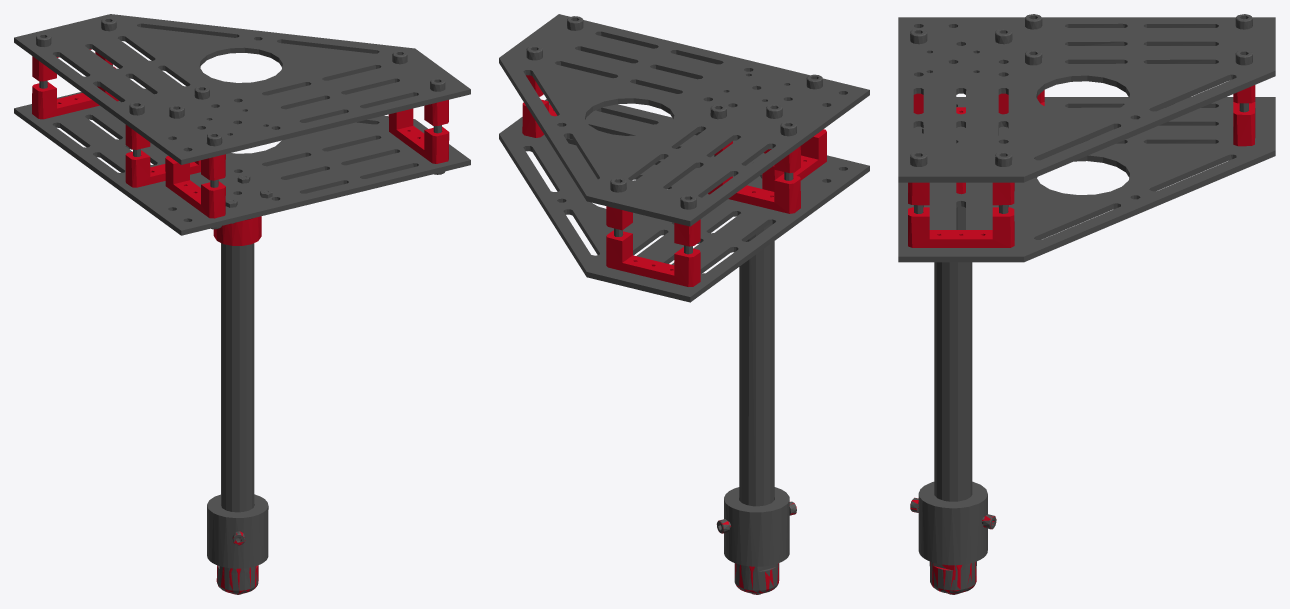
Rendered from fix_joint.dae.
The picture shows the model from 3 angles, left to right: view 1: azimuth 30°, elevation 25°; view 2: azimuth 150°, elevation 25°; view 3: azimuth 270°, elevation 25°; orthographic projection. The views are drawn at different scales.
Visible parts, largest first — view 1: fixed_joint_unit_black, fixed_joint_unit_red; view 2: fixed_joint_unit_black, fixed_joint_unit_red; view 3: fixed_joint_unit_black, fixed_joint_unit_red.
Boxes of the visible parts, <box> form: fixed_joint_unit_black: <box>14,14,470,594</box>; fixed_joint_unit_red: <box>32,49,449,594</box>; fixed_joint_unit_black: <box>499,14,869,594</box>; fixed_joint_unit_red: <box>522,75,826,594</box>; fixed_joint_unit_black: <box>898,14,1275,594</box>; fixed_joint_unit_red: <box>908,85,1255,594</box>.
Size of the model in its own units: 0.12 by 0.12 by 0.1895.
